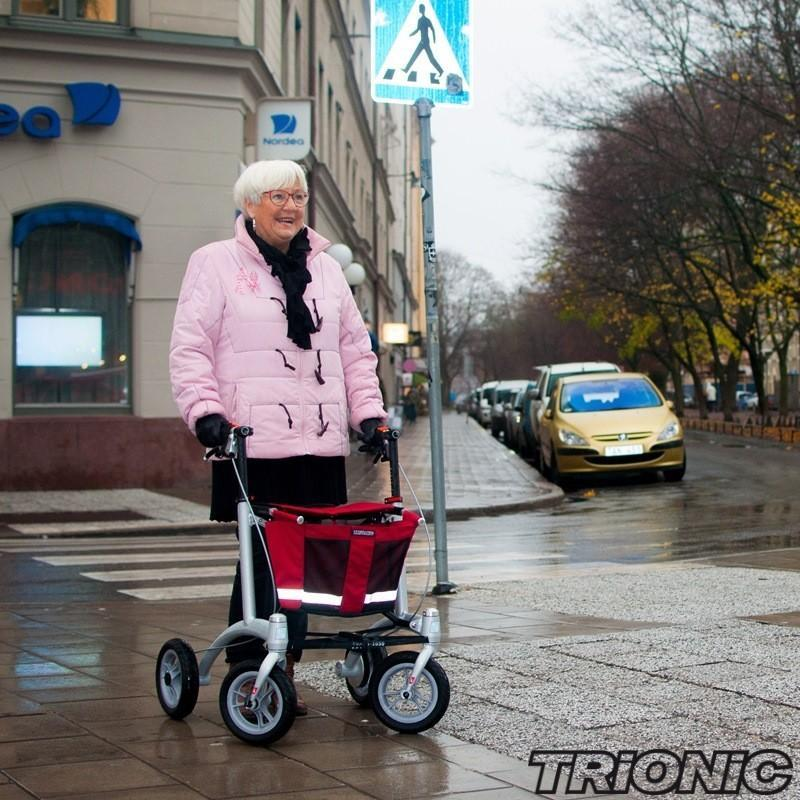walking_frame: (155, 160, 452, 744)
